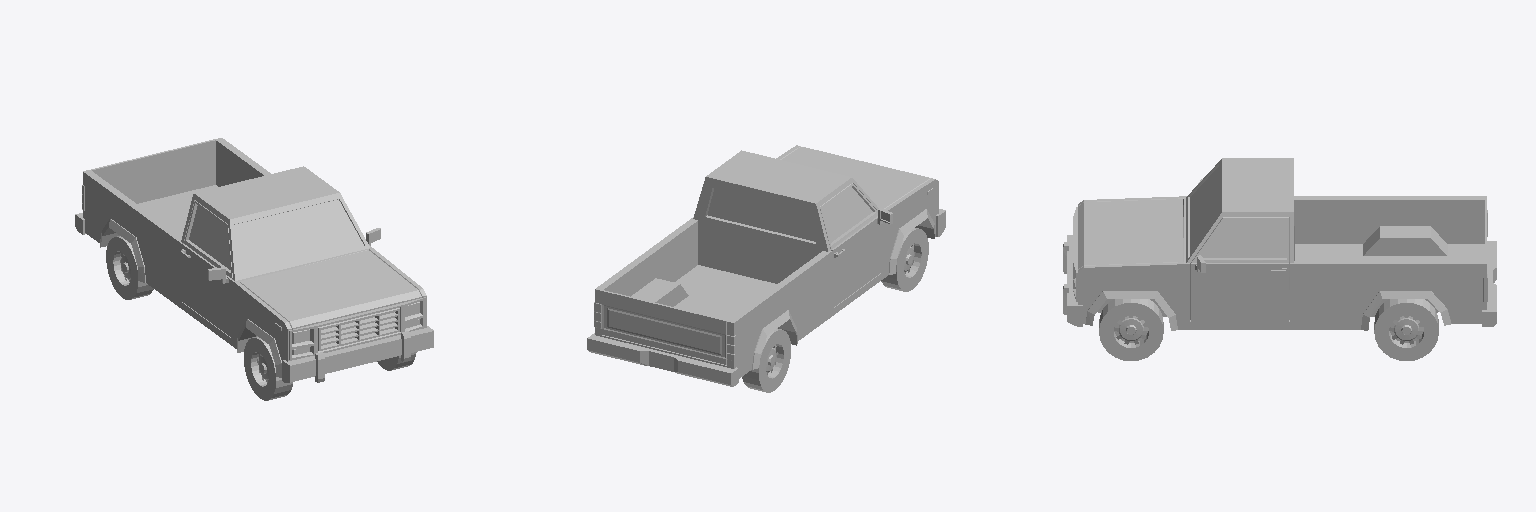
File: uploads_files_3064949_16_PICKUP_01.obj
3 renders of one model, left to right at view 1: azimuth 30°, elevation 25°; view 2: azimuth 150°, elevation 25°; view 3: azimuth 270°, elevation 25°, orthographic.
Visible parts, largest first — view 1: PICKUP_01_Cube, WINDOWS.008_Cube.144, DOOR_B.003_Cube.141, DOOR_R.007_Cube.142, WHEEL_1R.003_Circle.093, WHEEL_2R.003_Circle.092, WIN_R_Cube.146; view 2: PICKUP_01_Cube, DOOR_B.003_Cube.141, DOOR_R.007_Cube.142, WINDOWS.008_Cube.144, WHEEL_2R.003_Circle.092, WHEEL_1R.003_Circle.093, WIN_R_Cube.146; view 3: PICKUP_01_Cube, DOOR.L_Cube.143, WHEEL_2L.003_Circle.094, WHEEL_1L.003_Circle.095, WIN_L_Cube.145, WINDOWS.008_Cube.144.
Boxes of the visible parts, x1=… form: PICKUP_01_Cube: x1=75, y1=138, x2=433, y2=382; WINDOWS.008_Cube.144: x1=234, y1=199, x2=363, y2=276; DOOR_B.003_Cube.141: x1=91, y1=139, x2=215, y2=203; DOOR_R.007_Cube.142: x1=180, y1=200, x2=232, y2=336; WHEEL_1R.003_Circle.093: x1=244, y1=336, x2=292, y2=400; WHEEL_2R.003_Circle.092: x1=106, y1=236, x2=153, y2=299; WIN_R_Cube.146: x1=189, y1=206, x2=230, y2=269; PICKUP_01_Cube: x1=587, y1=145, x2=945, y2=386; DOOR_B.003_Cube.141: x1=602, y1=290, x2=727, y2=364; DOOR_R.007_Cube.142: x1=820, y1=183, x2=892, y2=307; WINDOWS.008_Cube.144: x1=708, y1=188, x2=815, y2=241; WHEEL_2R.003_Circle.092: x1=742, y1=328, x2=790, y2=392; WHEEL_1R.003_Circle.093: x1=881, y1=228, x2=928, y2=291; WIN_R_Cube.146: x1=822, y1=187, x2=872, y2=242; PICKUP_01_Cube: x1=1063, y1=158, x2=1496, y2=330; DOOR.L_Cube.143: x1=1190, y1=217, x2=1289, y2=321; WHEEL_2L.003_Circle.094: x1=1374, y1=299, x2=1438, y2=360; WHEEL_1L.003_Circle.095: x1=1099, y1=299, x2=1163, y2=360; WIN_L_Cube.145: x1=1200, y1=220, x2=1286, y2=257; WINDOWS.008_Cube.144: x1=1190, y1=167, x2=1218, y2=255.
Bounding box in the file's own units: 2.29 × 1.8 × 5.